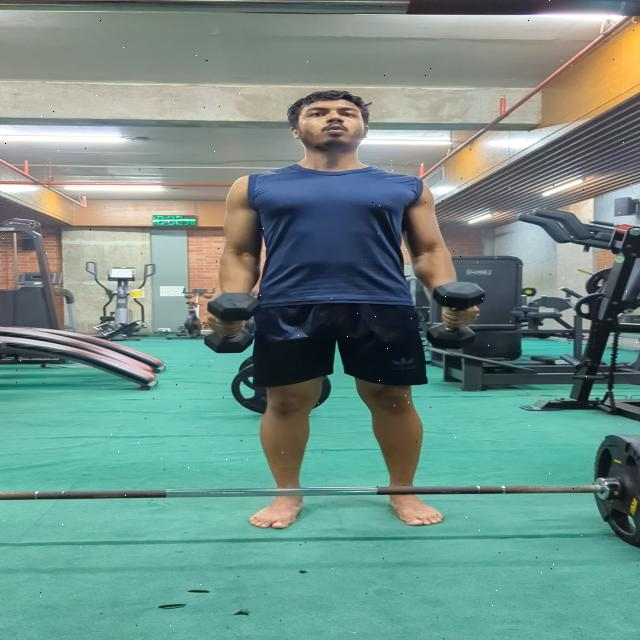Normal_DumbbellBicepCurls: (192, 85, 495, 530)
